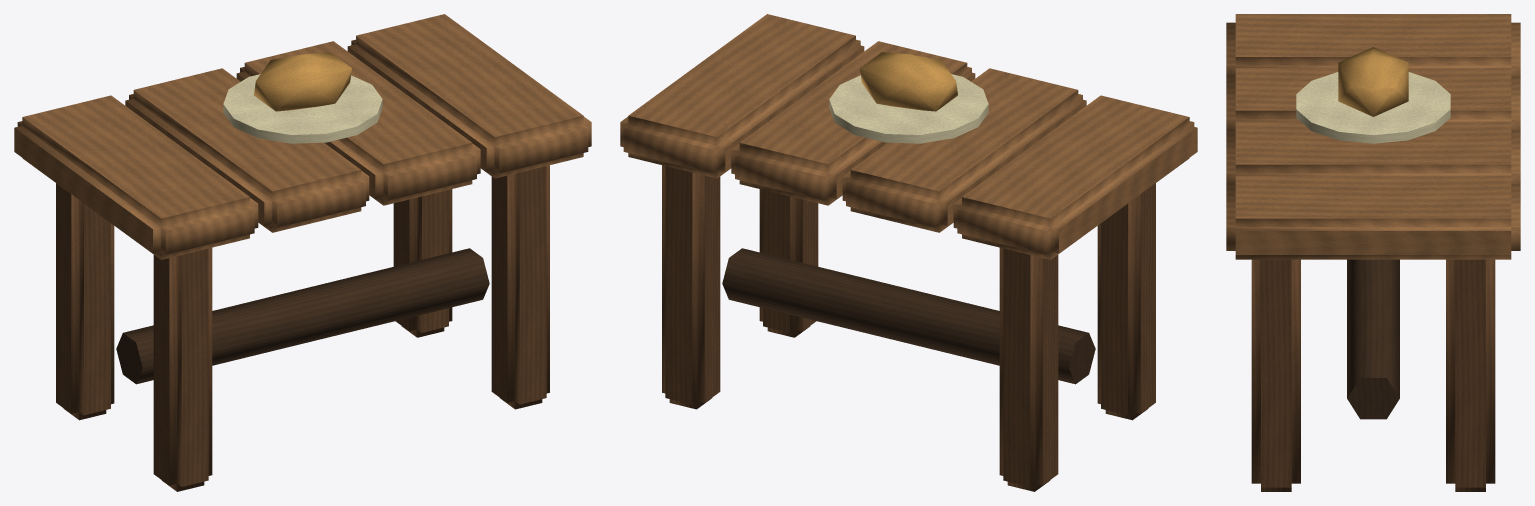
Rendered from table-0.fbx.
3 views of the same model, side by side, from view 1: azimuth 30°, elevation 25°; view 2: azimuth 150°, elevation 25°; view 3: azimuth 270°, elevation 25° (orthographic).
Visible parts, largest first — view 1: table-0__Geometry; view 2: table-0__Geometry; view 3: table-0__Geometry.
Part boxes in pixels (x1,y1,x2,y2): table-0__Geometry: [14, 14, 591, 491]; table-0__Geometry: [620, 14, 1197, 491]; table-0__Geometry: [1226, 14, 1520, 491].
Bounding box in the file's own units: 1.33 × 1.02 × 0.78.
